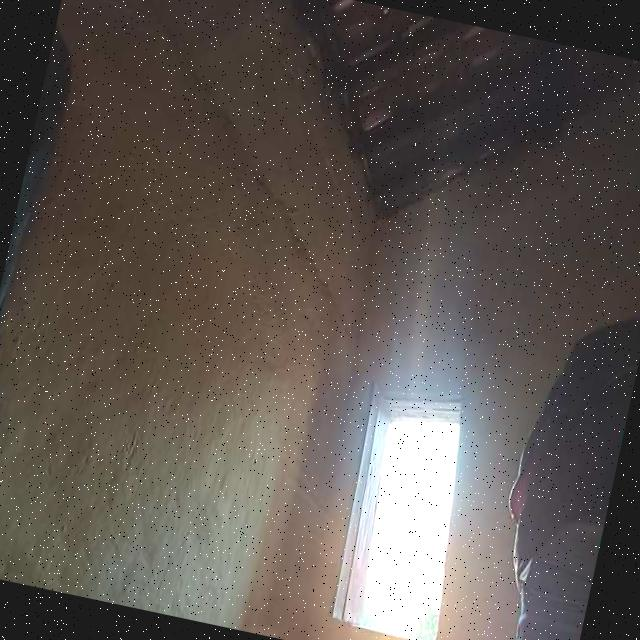pessoa: (477, 271, 640, 640)
